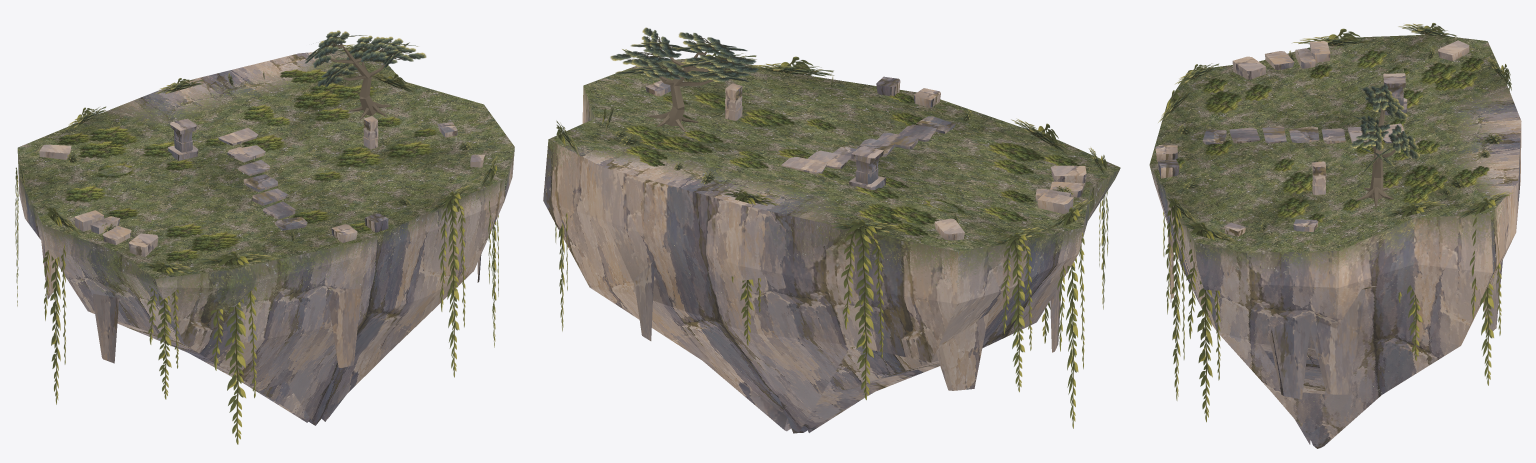
Rendered from slab.glb.
The picture shows the model from 3 angles, left to right: view 1: azimuth 30°, elevation 25°; view 2: azimuth 150°, elevation 25°; view 3: azimuth 270°, elevation 25°; orthographic projection. The views are drawn at different scales.
Visible parts, largest first — view 1: slab-continuous-fractured-stone, slab-painted-pine-ivy-and-moss, slab-ruins-path-and-splintered-ledges, slab-long-hanging-vine-quads, slab-summit-soil-and-bent-trunks; view 2: slab-continuous-fractured-stone, slab-painted-pine-ivy-and-moss, slab-ruins-path-and-splintered-ledges, slab-long-hanging-vine-quads, slab-summit-soil-and-bent-trunks; view 3: slab-continuous-fractured-stone, slab-painted-pine-ivy-and-moss, slab-ruins-path-and-splintered-ledges, slab-long-hanging-vine-quads, slab-summit-soil-and-bent-trunks.
Part boxes in pixels (x1=…): slab-continuous-fractured-stone: x1=17, y1=50, x2=514, y2=425; slab-painted-pine-ivy-and-moss: x1=19, y1=30, x2=497, y2=272; slab-ruins-path-and-splintered-ledges: x1=39, y1=116, x2=485, y2=367; slab-long-hanging-vine-quads: x1=15, y1=41, x2=498, y2=444; slab-summit-soil-and-bent-trunks: x1=330, y1=43, x2=391, y2=119; slab-continuous-fractured-stone: x1=543, y1=57, x2=1120, y2=433; slab-painted-pine-ivy-and-moss: x1=556, y1=27, x2=1105, y2=245; slab-ruins-path-and-splintered-ledges: x1=634, y1=61, x2=1086, y2=390; slab-long-hanging-vine-quads: x1=555, y1=50, x2=1108, y2=428; slab-summit-soil-and-bent-trunks: x1=648, y1=50, x2=713, y2=131; slab-continuous-fractured-stone: x1=1149, y1=35, x2=1521, y2=448; slab-painted-pine-ivy-and-moss: x1=1158, y1=23, x2=1513, y2=242; slab-ruins-path-and-splintered-ledges: x1=1155, y1=40, x2=1502, y2=399; slab-long-hanging-vine-quads: x1=1163, y1=23, x2=1511, y2=422; slab-summit-soil-and-bent-trunks: x1=1356, y1=107, x2=1402, y2=207.
Size of the model in its own units: 34.44 by 26.91 by 23.6.
Materials: 5 (4 with a texture image).
